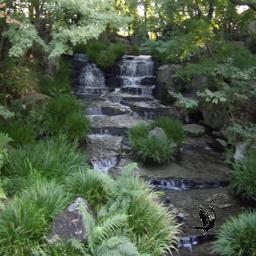Crow: (194, 204, 216, 237)
